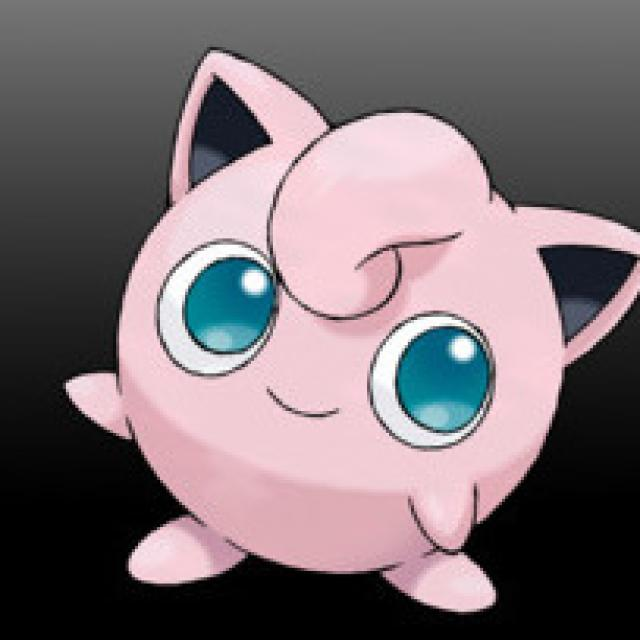Jigglypuff: (125, 107, 607, 593)
